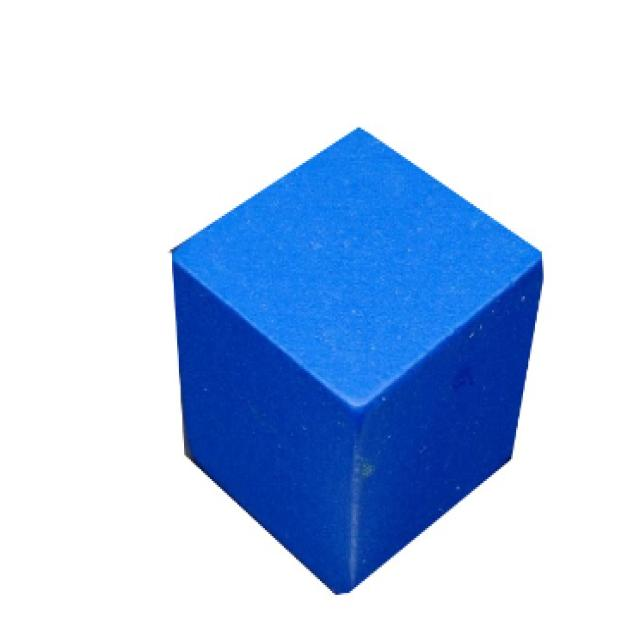bluecube: (170, 124, 548, 596)
